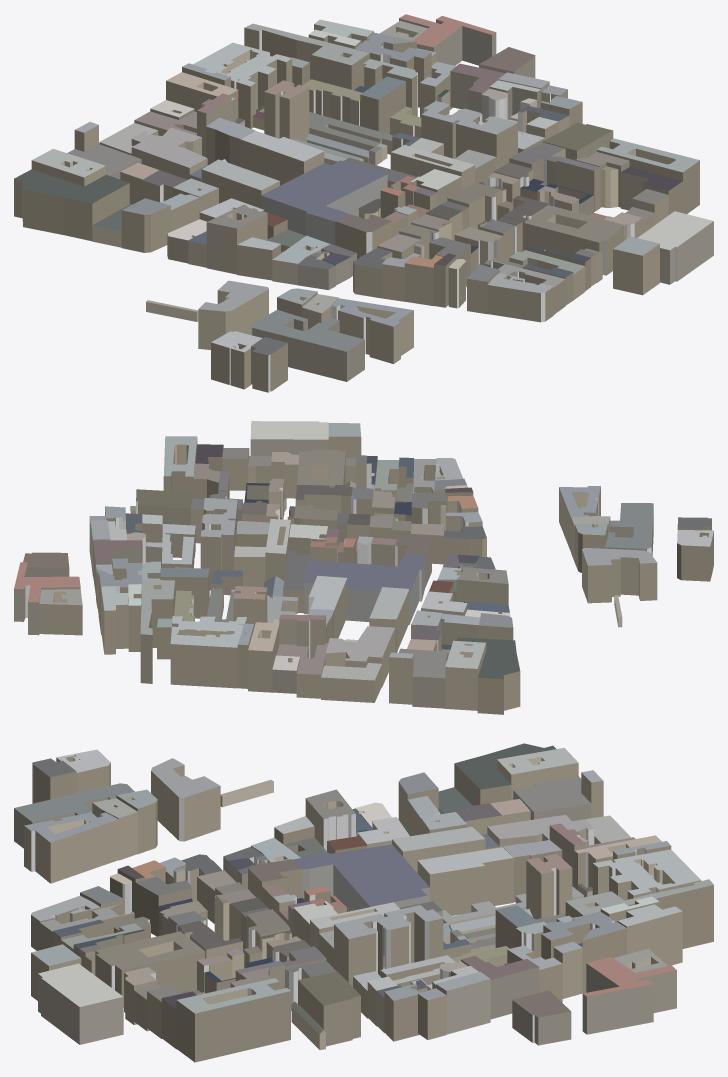
3 renders of one model, top to bottom at view 1: azimuth 30°, elevation 25°; view 2: azimuth 150°, elevation 25°; view 3: azimuth 270°, elevation 25°, orthographic. The views are drawn at different scales.
Parts seen in each view (by area): view 1: tuile; view 2: tuile; view 3: tuile.
Boxes of the visible parts, <box> form: tuile: <box>14,14,713,392</box>; tuile: <box>14,421,713,714</box>; tuile: <box>14,743,713,1062</box>.
Size of the model in its own units: 275 by 36.49 by 284.
